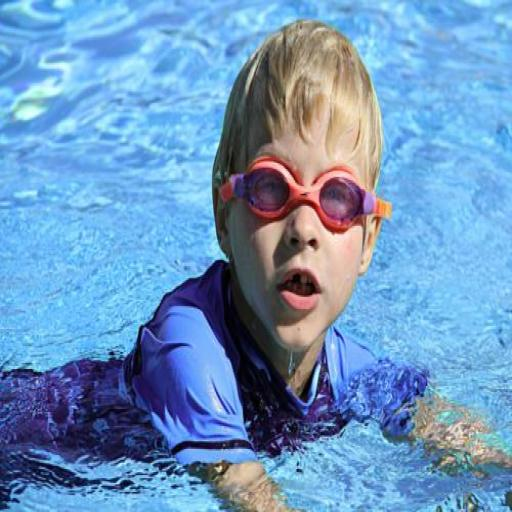swimming: (73, 30, 437, 512)
